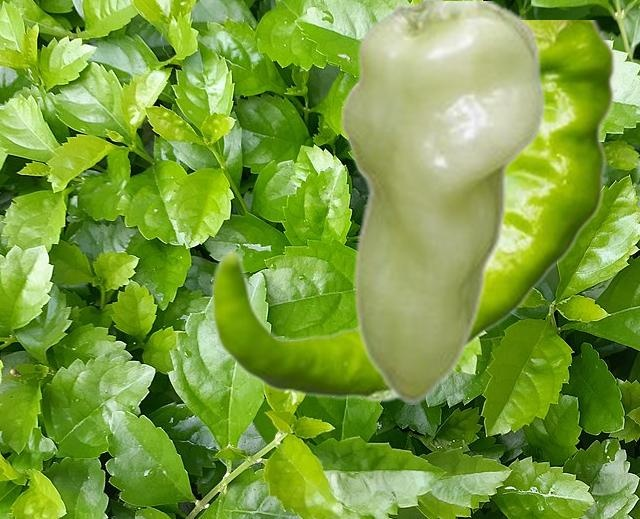green_chili: (210, 20, 617, 402), (335, 1, 544, 403)
